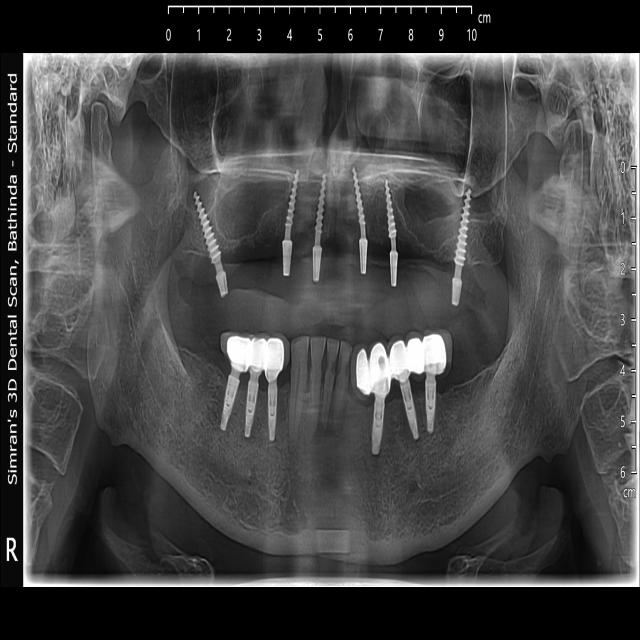Crown: (355, 335, 447, 396), (227, 334, 285, 387)
Implant: (190, 187, 230, 295), (453, 189, 472, 306), (352, 166, 368, 273), (313, 174, 328, 281), (284, 173, 299, 276), (400, 377, 420, 444), (386, 175, 398, 286), (219, 371, 240, 431), (424, 363, 439, 437), (245, 374, 260, 439), (265, 370, 278, 440), (371, 396, 386, 456)
Missing teeth: (229, 237, 276, 275), (448, 361, 484, 410), (406, 233, 451, 269), (325, 234, 353, 266), (370, 229, 386, 266), (299, 237, 308, 267)
